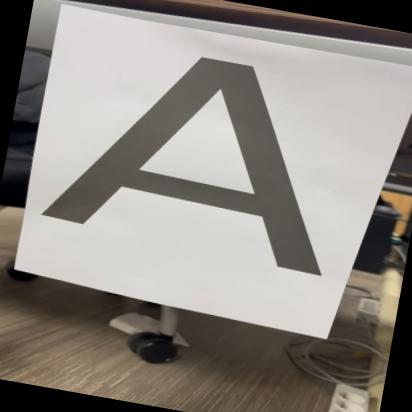seat: (36, 28, 363, 278)
